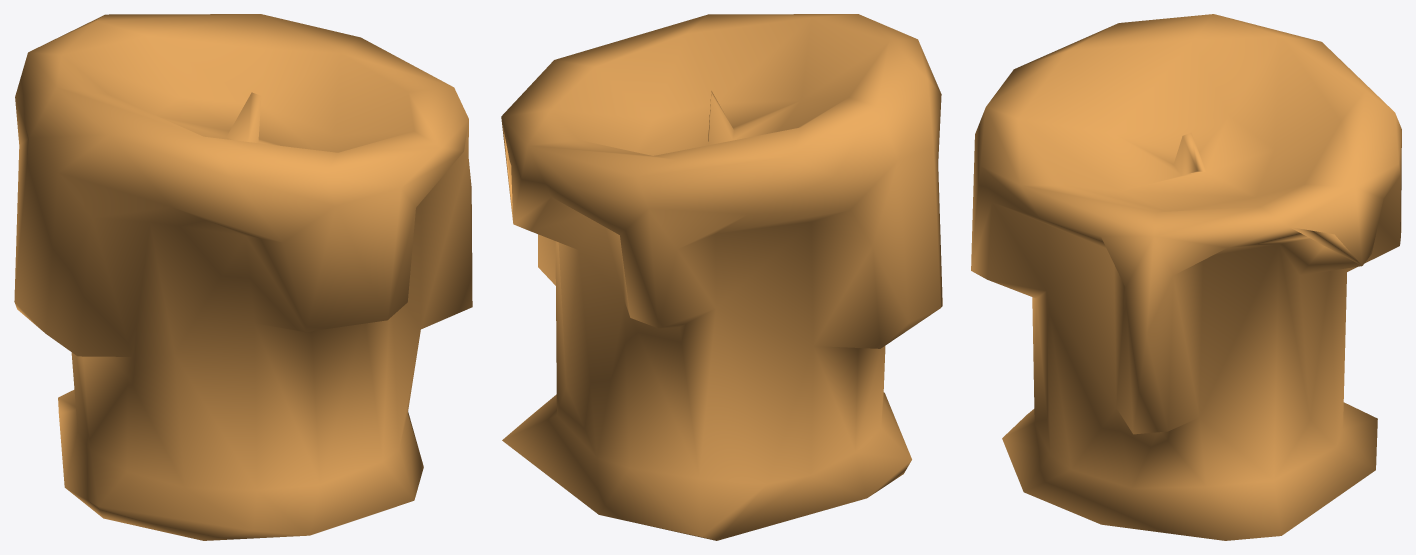
3 views of the same model, side by side, from view 1: azimuth 30°, elevation 25°; view 2: azimuth 150°, elevation 25°; view 3: azimuth 270°, elevation 25° (orthographic). The views are drawn at different scales.
Parts seen in each view (by area): view 1: Cylinder.003; view 2: Cylinder.003; view 3: Cylinder.003.
Boxes of the visible parts, <box> form: Cylinder.003: <box>14,14,472,540</box>; Cylinder.003: <box>501,14,942,540</box>; Cylinder.003: <box>971,14,1401,540</box>.
Bounding box in the file's own units: 116 × 111 × 114.
